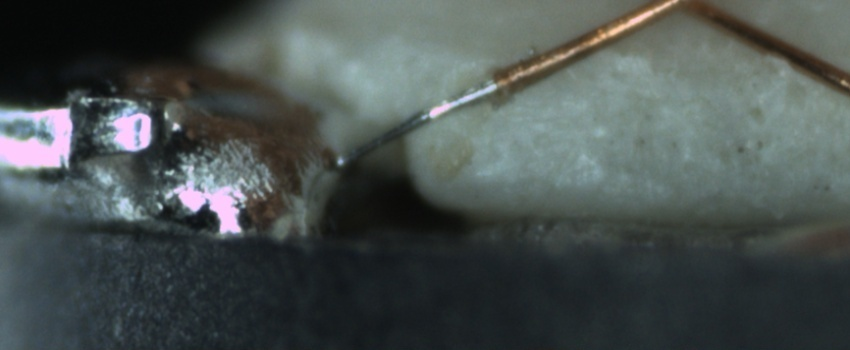CL: (637, 0, 726, 23)
TS: (339, 79, 498, 166)
TTCW: (336, 48, 560, 170)
